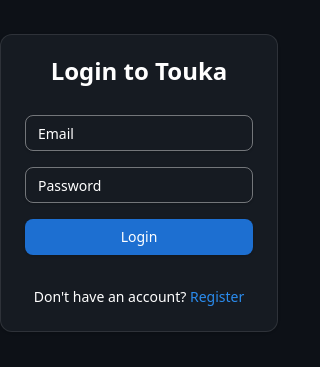
Scenario: Auth Pages UI › renders the service-classified AUTH_INVALID_CREDENTIALS safely without redirecting
Step 1. Type "test@test.com" into the field with placeholder "Email" → (139, 133), box [25,115,253,151]
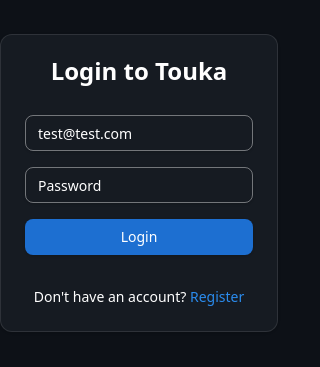
Step 2. Type "private-password-sentinel" into the password field with placeholder "Password" → (139, 185), box [25,167,253,203]
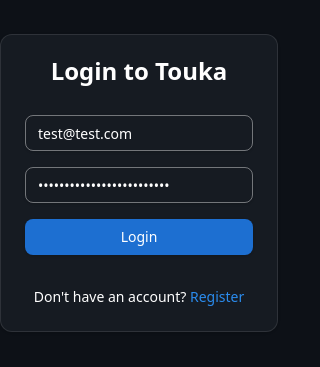
Step 3. Click the button "Login" → (139, 237), box [25,219,253,255]
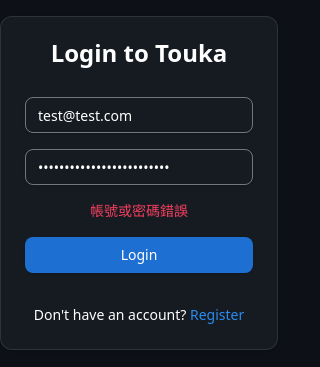
Result: the text "帳號或密碼錯誤" is shown at [90,201,188,220]
